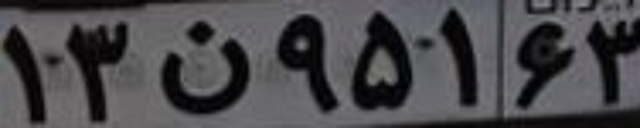1: (0, 23, 48, 123), (438, 8, 477, 104)
3: (67, 21, 129, 123), (583, 17, 638, 106)
5: (350, 10, 409, 110)
6: (511, 18, 574, 109)
9: (274, 11, 337, 111)
non: (156, 19, 250, 114)
